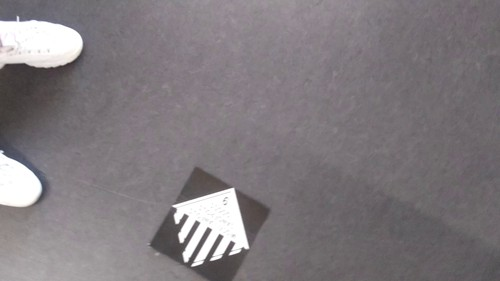misgoods: (170, 193, 260, 267)
